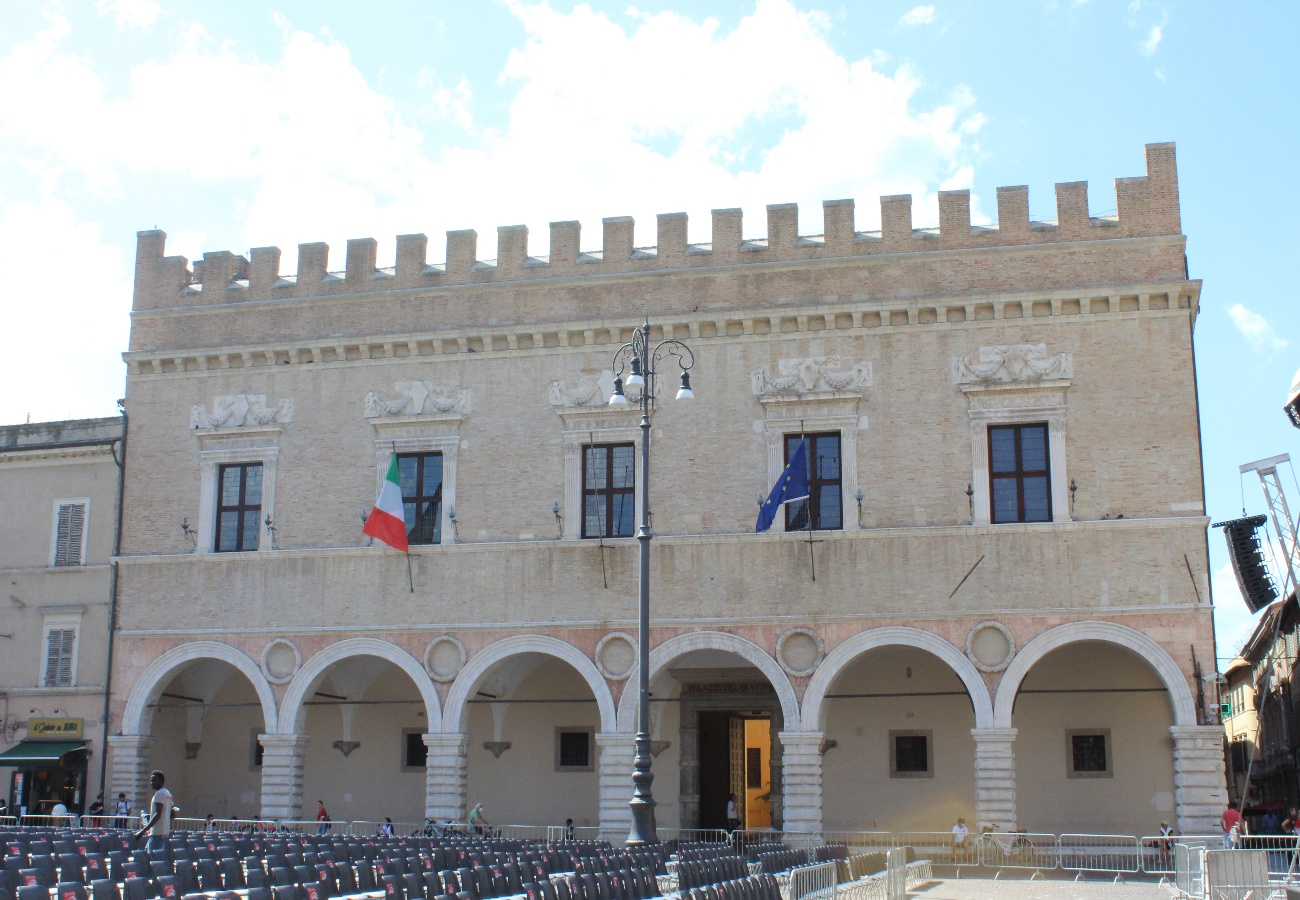Palazzo Ducale: (122, 141, 1198, 840)
